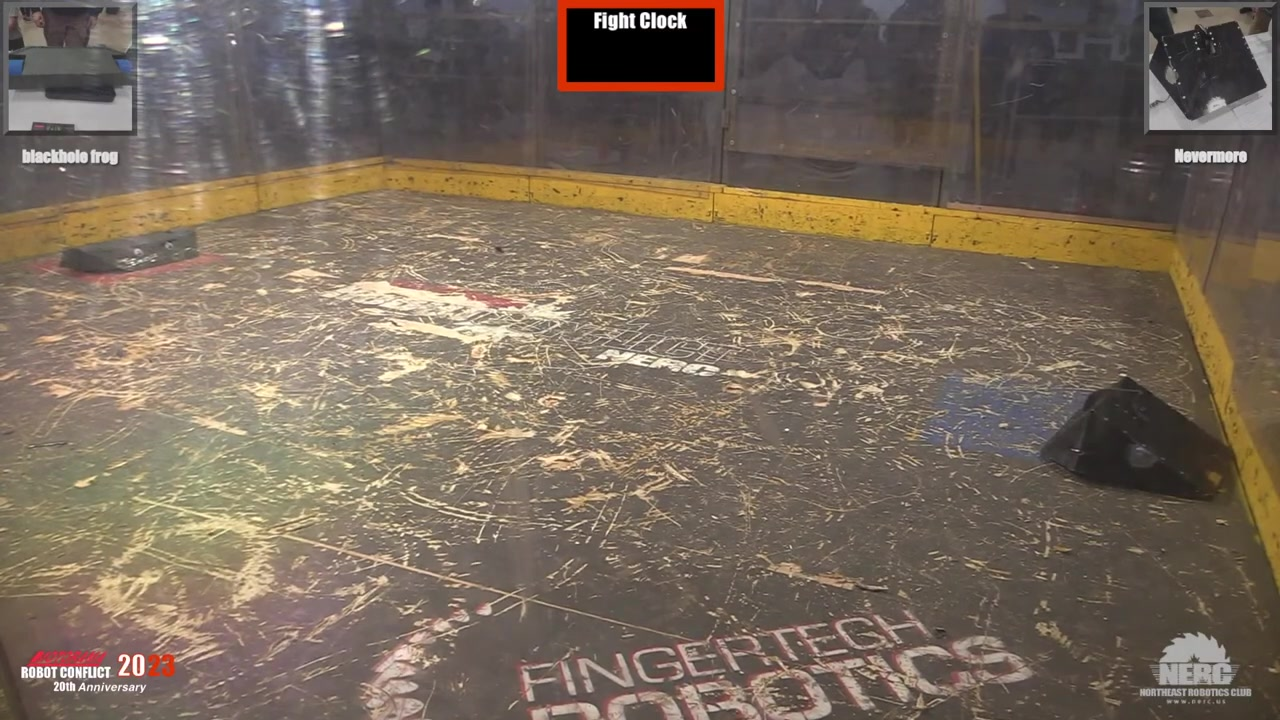combatbot: (1042, 377, 1233, 503), (62, 231, 202, 275)
